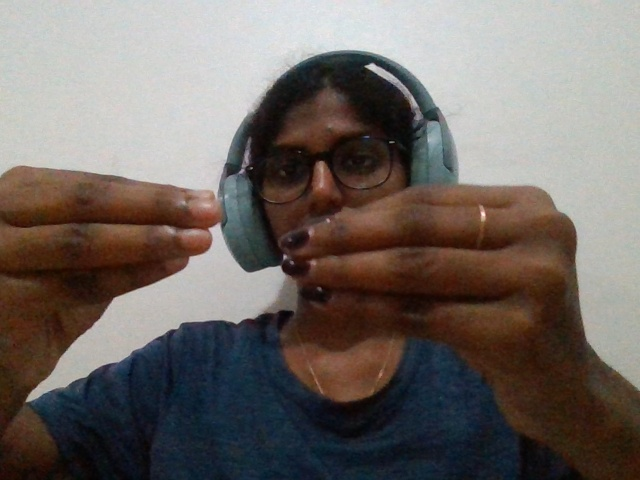More: (2, 126, 596, 480)
